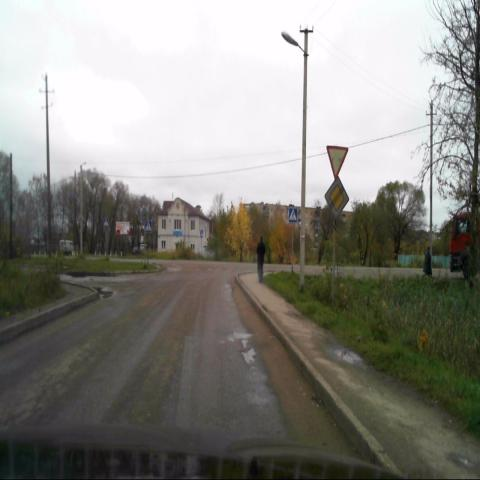2_2: (324, 176, 348, 221)
